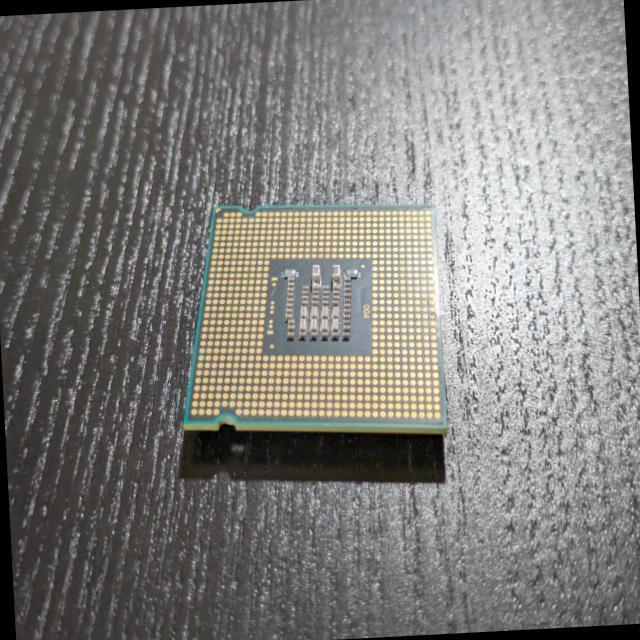CPU: (172, 194, 448, 448)
